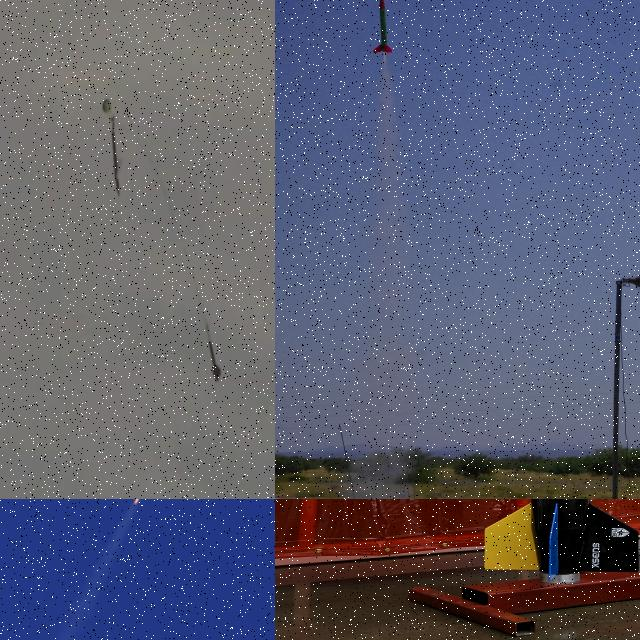Rocket: (484, 499, 639, 582), (373, 0, 392, 53), (208, 341, 222, 383)
